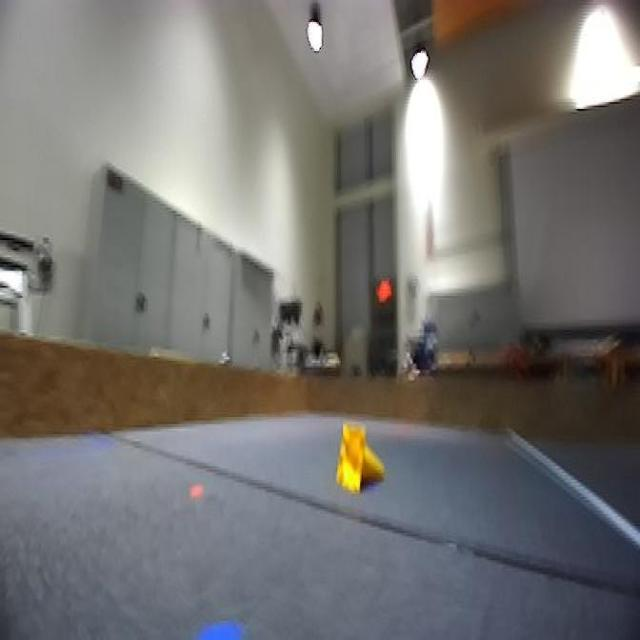frc_cone: (332, 422, 385, 494)
